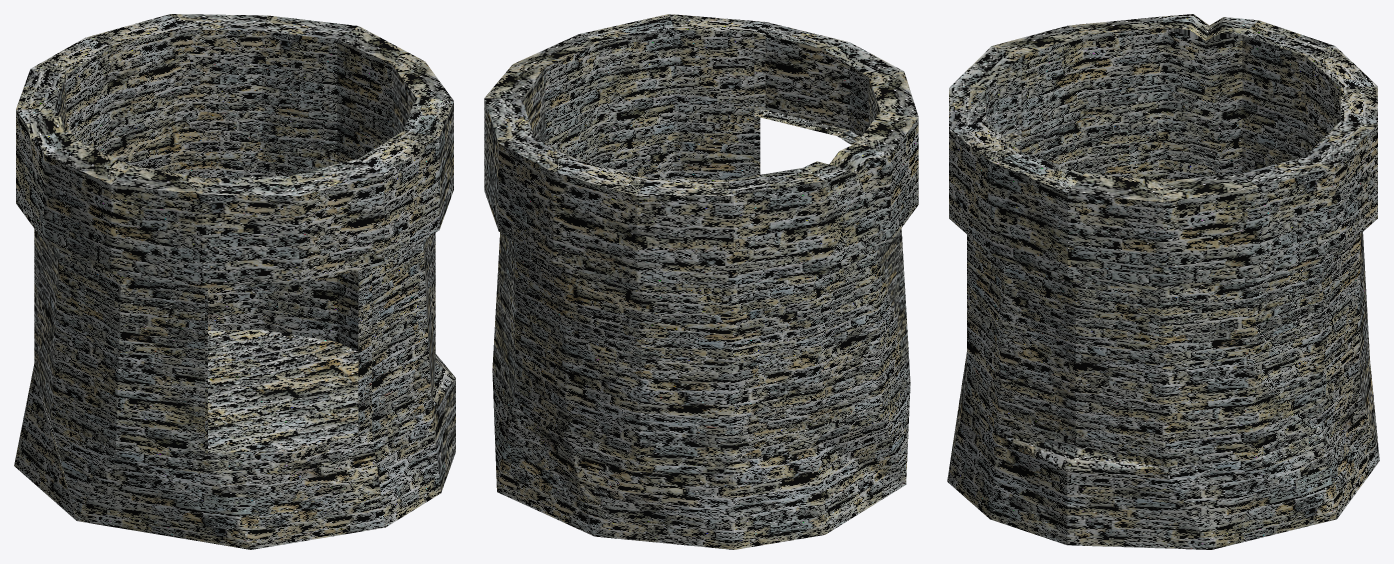
File: tavern_fireplace_LOD.dae
3 views of the same model, side by side, from view 1: azimuth 30°, elevation 25°; view 2: azimuth 150°, elevation 25°; view 3: azimuth 270°, elevation 25° (orthographic).
Parts seen in each view (by area): view 1: Default_Layer; view 2: Default_Layer; view 3: Default_Layer.
Part boxes in pixels (left/top/right/bottom): Default_Layer: left=14, top=14, right=455, bottom=549; Default_Layer: left=484, top=14, right=918, bottom=549; Default_Layer: left=947, top=14, right=1379, bottom=549.
Bounding box in the file's own units: 1.98 × 1.77 × 1.95.
